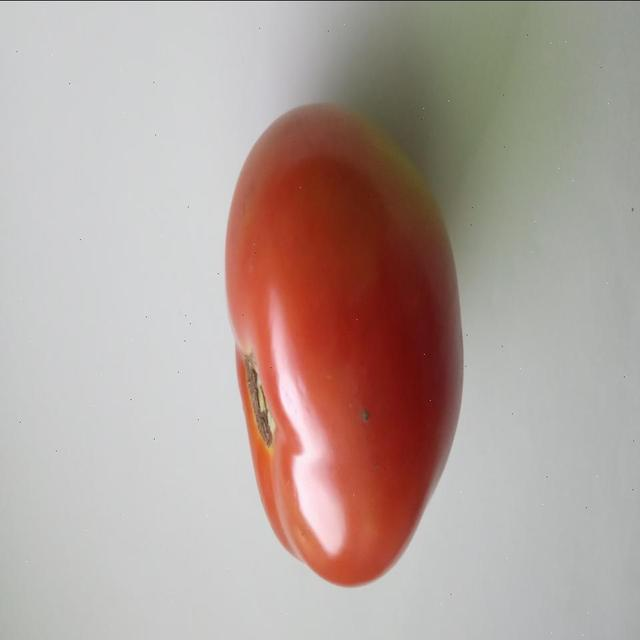Healthy Fruit: (146, 59, 312, 398)
